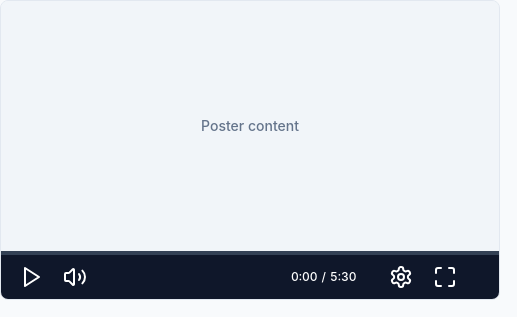
Test: VideoPlayer › toggles playback and mute controls
This screenshot has width=517, height=317.
Click the button named "Play video" at (31, 277), box [9,255,53,299]
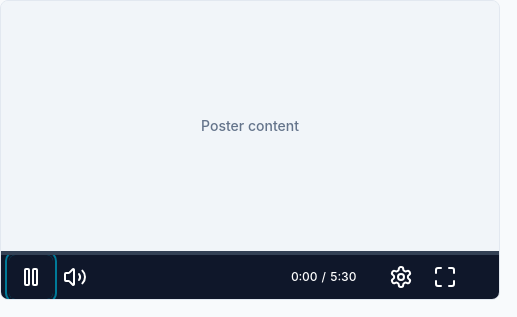
Result: the button named "Pause video" is shown at [9,255,53,299]
Click the button named "Mute video" at (75, 277), box [53,255,97,299]
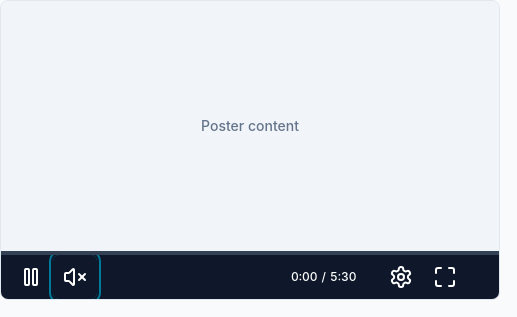
Result: the button named "Unmute video" is shown at [53,255,97,299]
